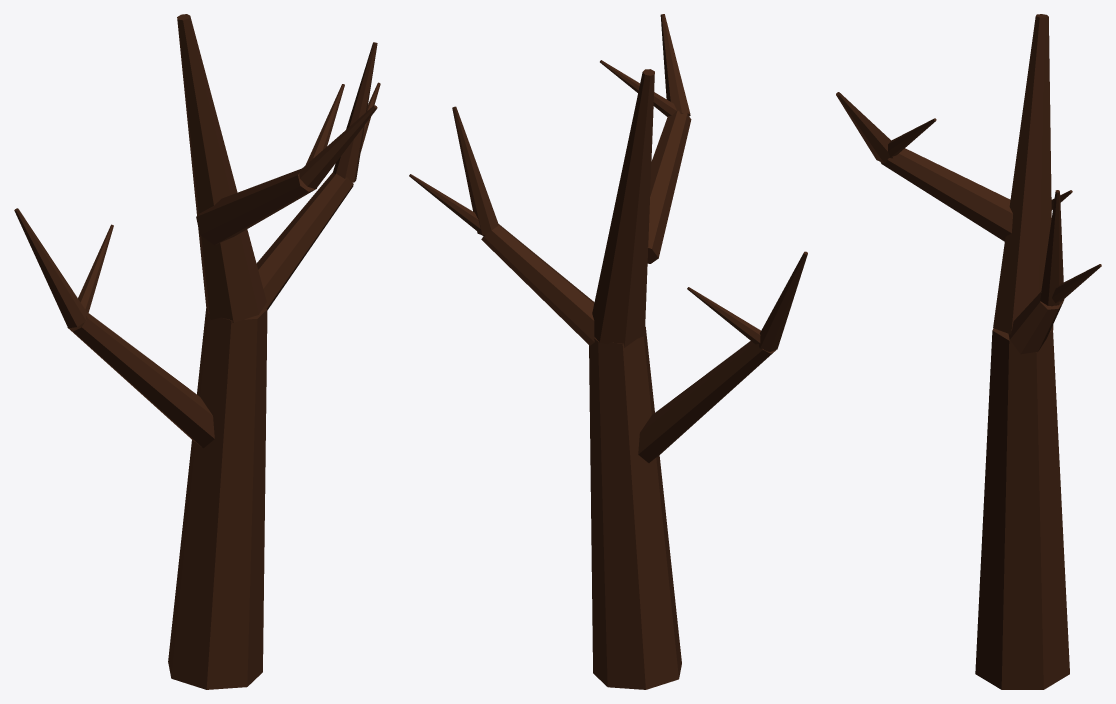
Rendered from bare.glb.
3 renders of one model, left to right at view 1: azimuth 30°, elevation 25°; view 2: azimuth 150°, elevation 25°; view 3: azimuth 270°, elevation 25°, orthographic. The views are drawn at different scales.
Visible parts, largest first — view 1: bare; view 2: bare; view 3: bare.
Part boxes in pixels (<box>): bare: <box>14,14,380,689</box>; bare: <box>409,14,807,689</box>; bare: <box>836,14,1101,689</box>.
Bounding box in the file's own units: 2.32 × 3.67 × 1.37.
1 material, 1 textured.
